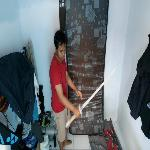Pedang: (64, 64, 114, 132)
